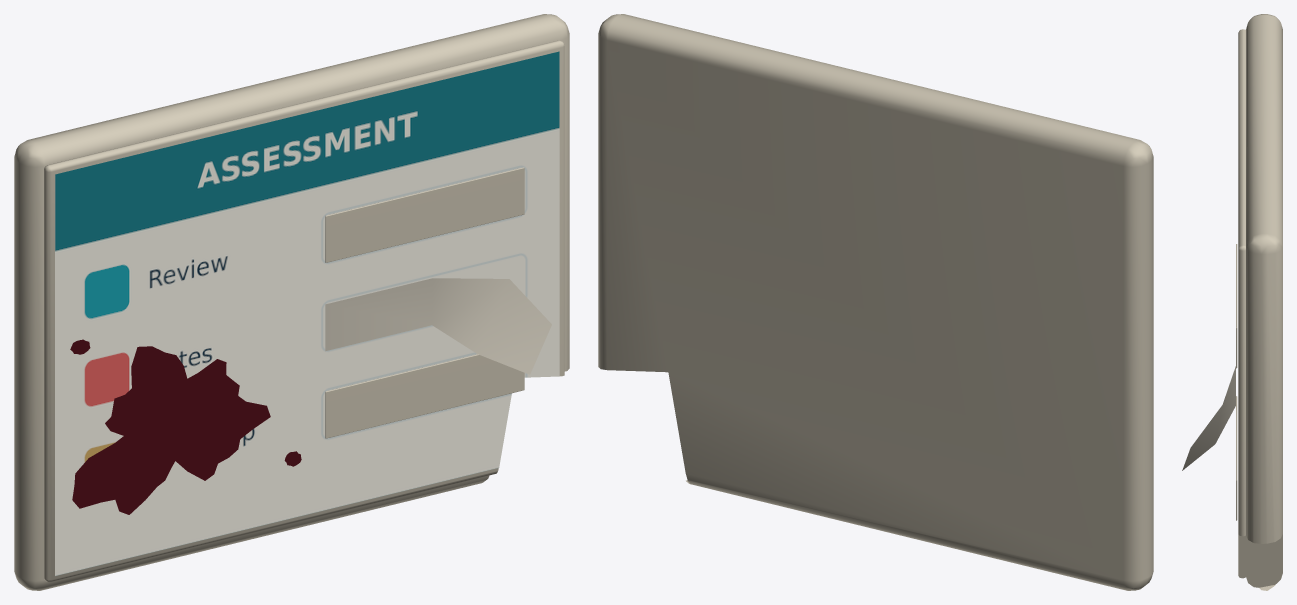
The model's file is assessment_status_board.glb.
3 views of the same model, side by side, from view 1: azimuth 30°, elevation 25°; view 2: azimuth 150°, elevation 25°; view 3: azimuth 270°, elevation 25° (orthographic). The views are drawn at different scales.
Visible parts, largest first — view 1: OB_AssessmentStatusBoard_01_Static; view 2: OB_AssessmentStatusBoard_01_Static; view 3: OB_AssessmentStatusBoard_01_Static.
Boxes of the visible parts, box(x1,y1,x2,y2) form: OB_AssessmentStatusBoard_01_Static: box(14, 14, 569, 590); OB_AssessmentStatusBoard_01_Static: box(598, 14, 1153, 590); OB_AssessmentStatusBoard_01_Static: box(1182, 14, 1282, 590).
Bounding box in the file's own units: 0.77 × 0.6 × 0.142.
Materials: 4 (1 with a texture image).
